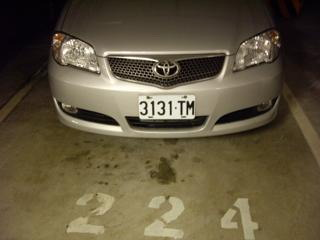plate: (136, 94, 197, 122)
